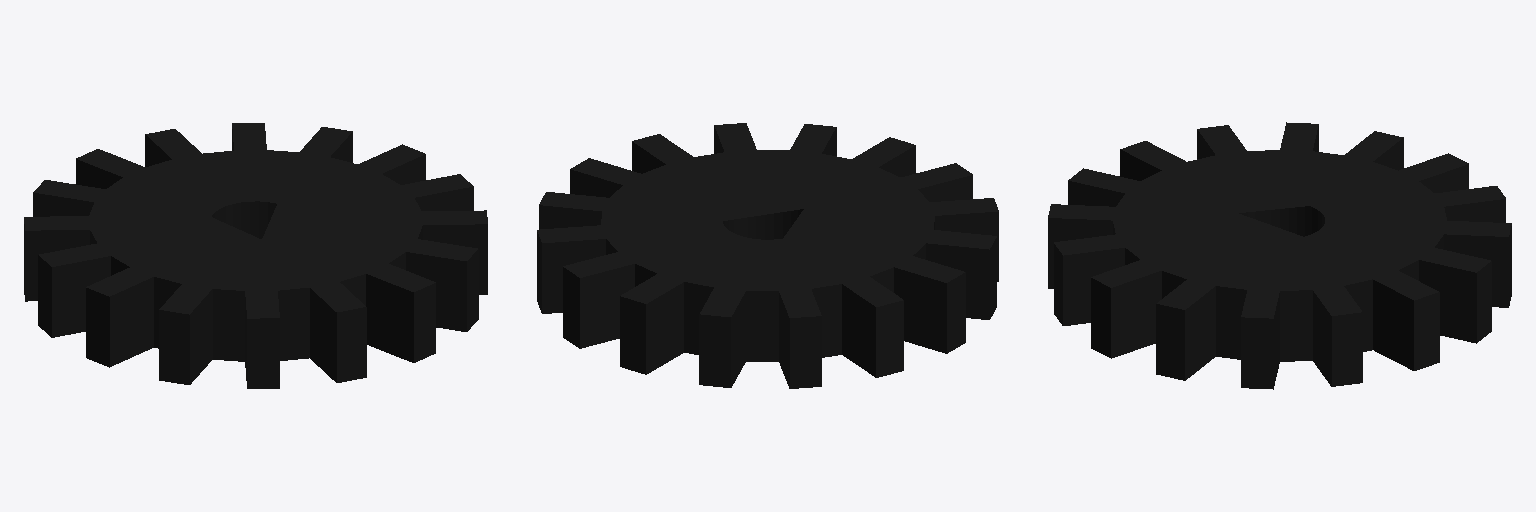
The model's file is gear.obj.
The picture shows the model from 3 angles: view 1: azimuth 30°, elevation 25°; view 2: azimuth 150°, elevation 25°; view 3: azimuth 270°, elevation 25°; orthographic projection.
Visible parts, largest first — view 1: Cylinder; view 2: Cylinder; view 3: Cylinder.
Boxes of the visible parts, box(x1,y1,x2,y2) form: Cylinder: box(24, 123, 487, 388); Cylinder: box(537, 123, 998, 388); Cylinder: box(1048, 122, 1511, 389).
Size of the model in its own units: 1.43 by 0.2399 by 1.43.